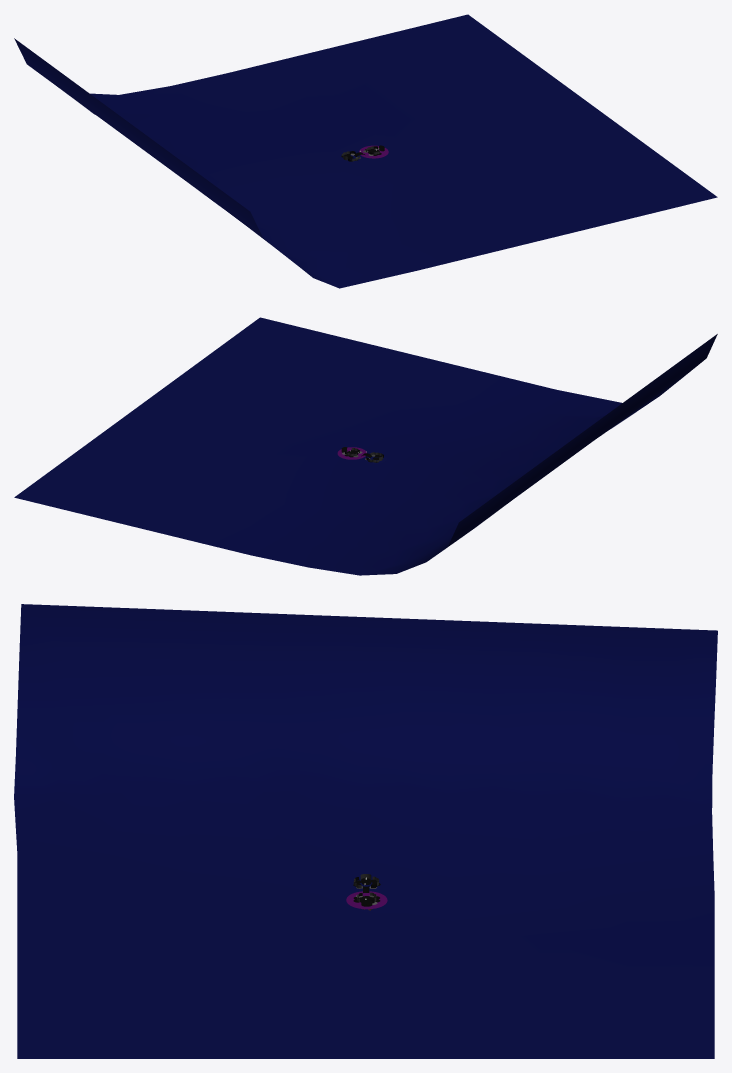
File: 2GALERIADUPLACHACKRAS.glb
3 views of the same model, one above another, from view 1: azimuth 30°, elevation 25°; view 2: azimuth 150°, elevation 25°; view 3: azimuth 270°, elevation 25° (orthographic). The views are drawn at different scales.
Parts seen in each view (by area): view 1: Plane, Cylinder.056; view 2: Plane, Cylinder.056; view 3: Plane, Cylinder.056.
Boxes of the visible parts, x1=… form: Plane: x1=14, y1=14, x2=717, y2=288; Cylinder.056: x1=338, y1=145, x2=388, y2=162; Plane: x1=14, y1=317, x2=717, y2=575; Cylinder.056: x1=337, y1=447, x2=386, y2=463; Plane: x1=14, y1=604, x2=717, y2=1058; Cylinder.056: x1=346, y1=874, x2=387, y2=910.
Size of the model in its own units: 305 by 62.89 by 286.
